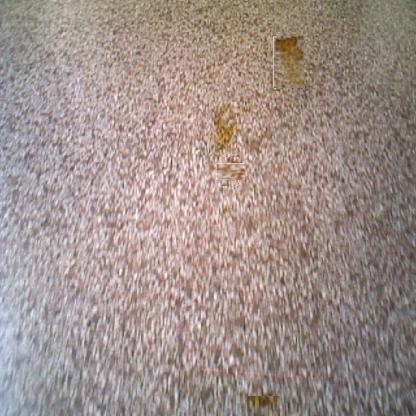liquid: (273, 36, 304, 88), (209, 102, 237, 154), (246, 396, 280, 416), (219, 160, 242, 183)
